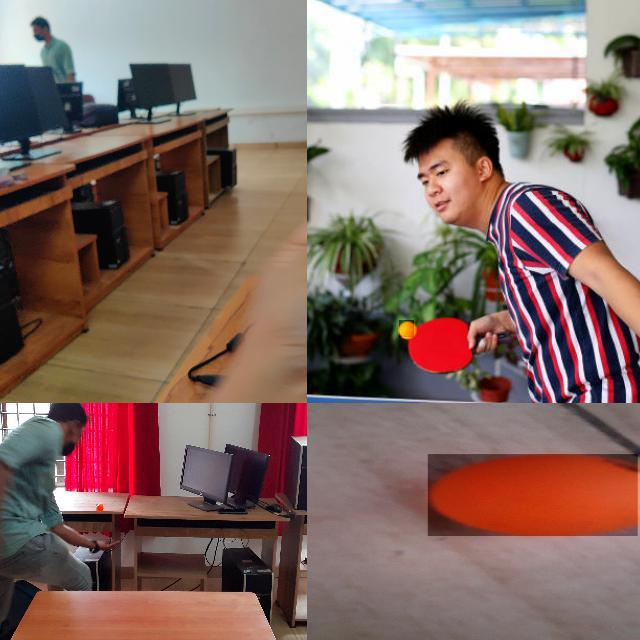ping-pong-ball: (428, 454, 639, 536), (398, 320, 416, 338), (96, 503, 104, 512)
